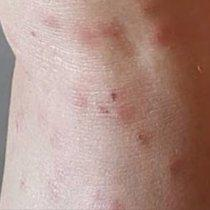Fleas: (95, 15, 133, 60), (165, 157, 191, 183), (148, 34, 183, 45), (129, 131, 150, 147), (97, 106, 119, 118), (104, 91, 119, 104), (73, 94, 86, 107), (42, 19, 60, 27), (79, 30, 88, 41)
